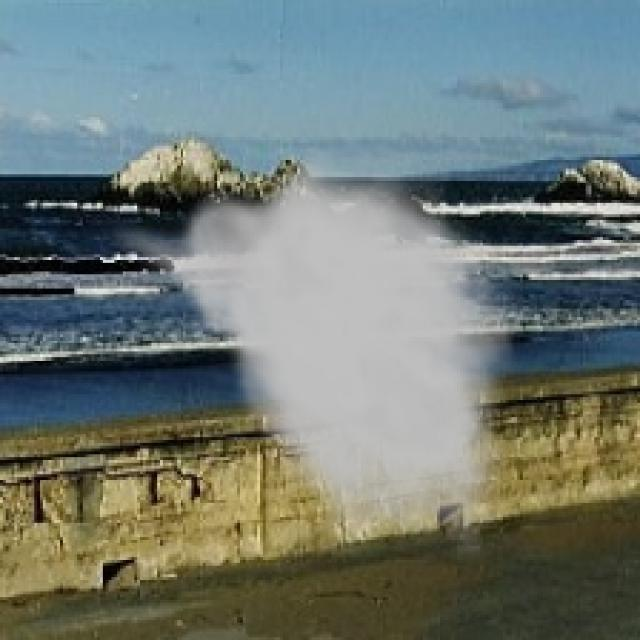Smoke: (100, 140, 523, 563)
